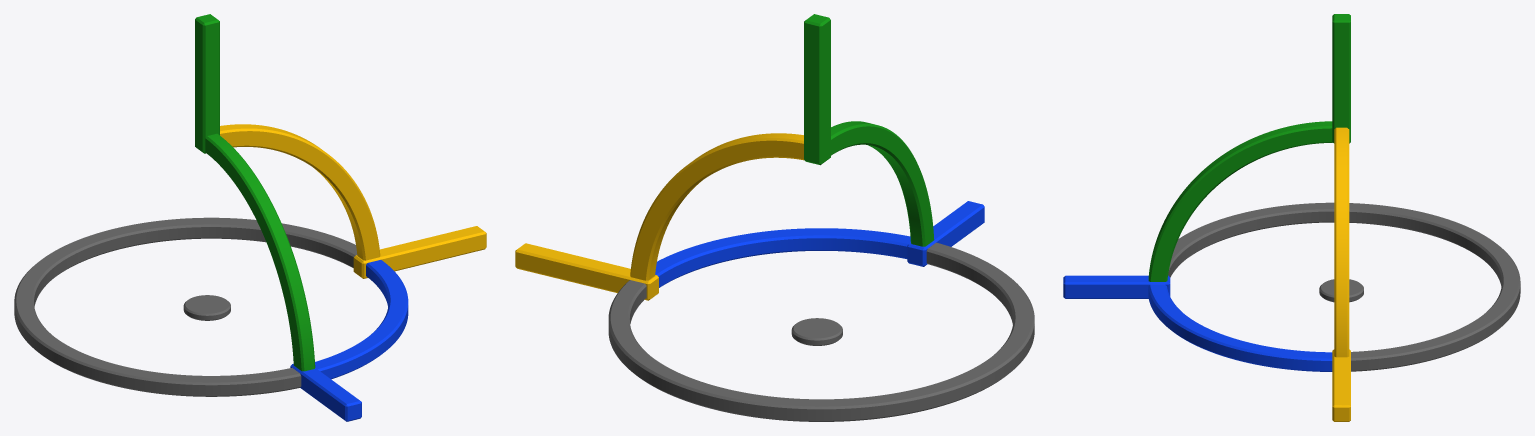
The model's file is cloud_anchor.dae.
3 views of the same model, side by side, from view 1: azimuth 30°, elevation 25°; view 2: azimuth 150°, elevation 25°; view 3: azimuth 270°, elevation 25° (orthographic). The views are drawn at different scales.
Parts seen in each view (by area): view 1: cloud_anchor; view 2: cloud_anchor; view 3: cloud_anchor.
Boxes of the visible parts, x1=… form: cloud_anchor: x1=14, y1=14, x2=486, y2=421; cloud_anchor: x1=515, y1=14, x2=1034, y2=421; cloud_anchor: x1=1063, y1=14, x2=1520, y2=421.
Size of the model in its own units: 0.2009 by 0.1269 by 0.1887.
